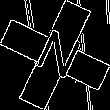N_SW: (26, 24, 84, 86)
